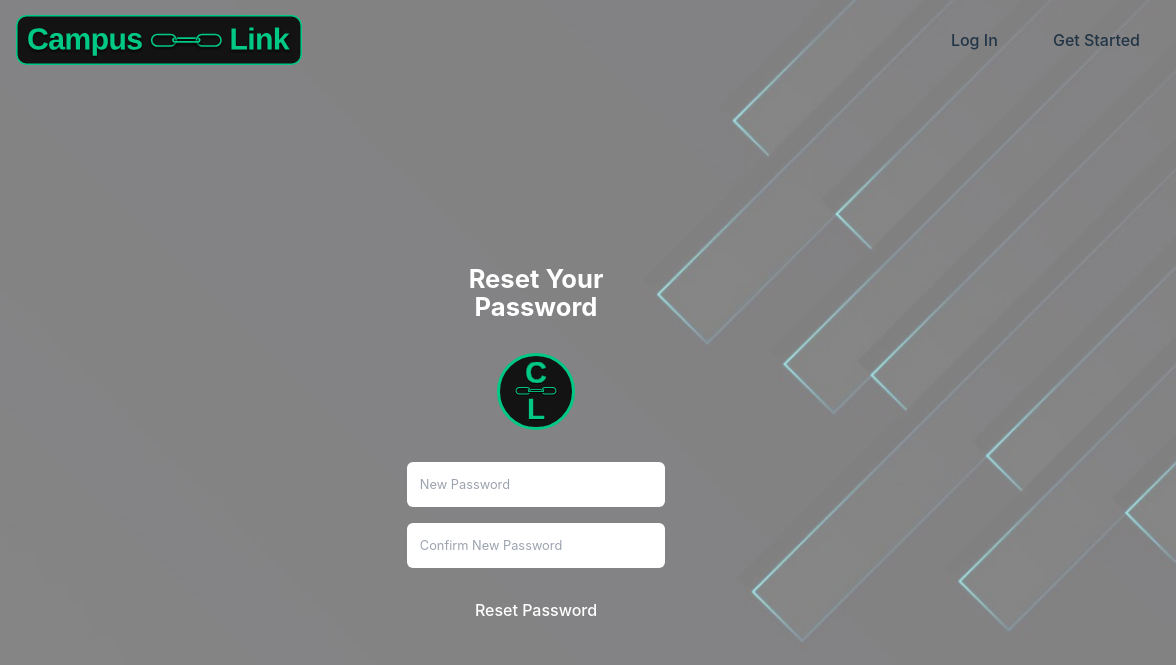
Test: Password Reset Page › shows an error if the password reset fails
Note: Enter matching passwords
Type "Password123!" into the password field with test id "new-password" at x=536, y=485, box [407,462,665,507]
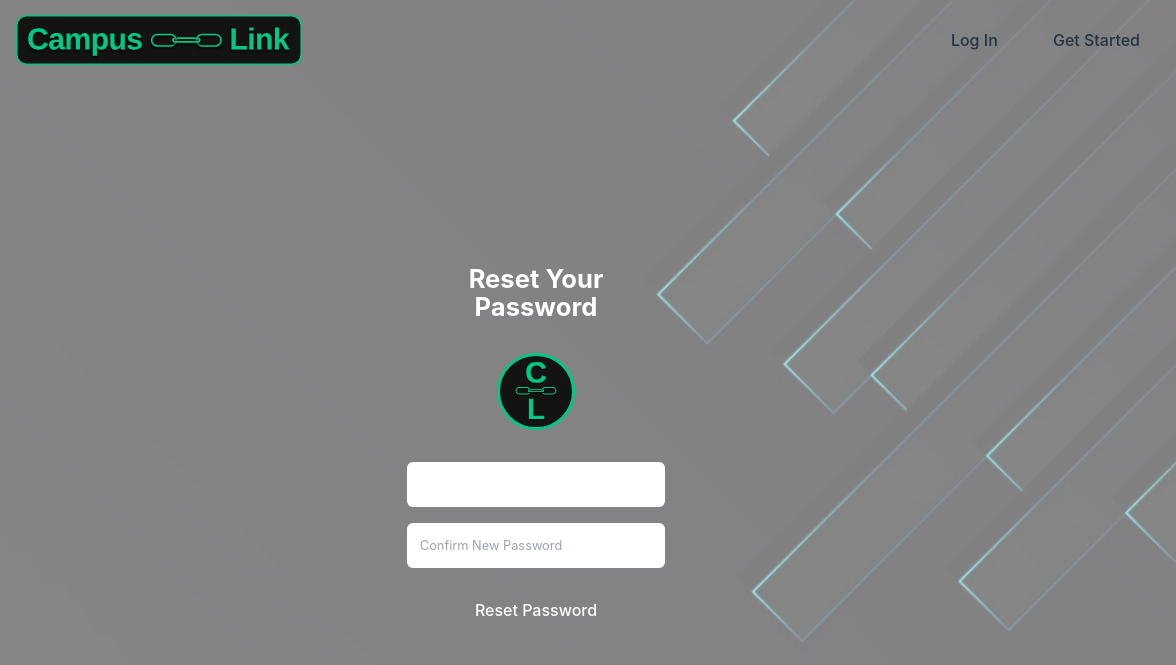
Type "Password123!" into the password field with test id "confirm-password" at x=536, y=545, box [407,523,665,568]
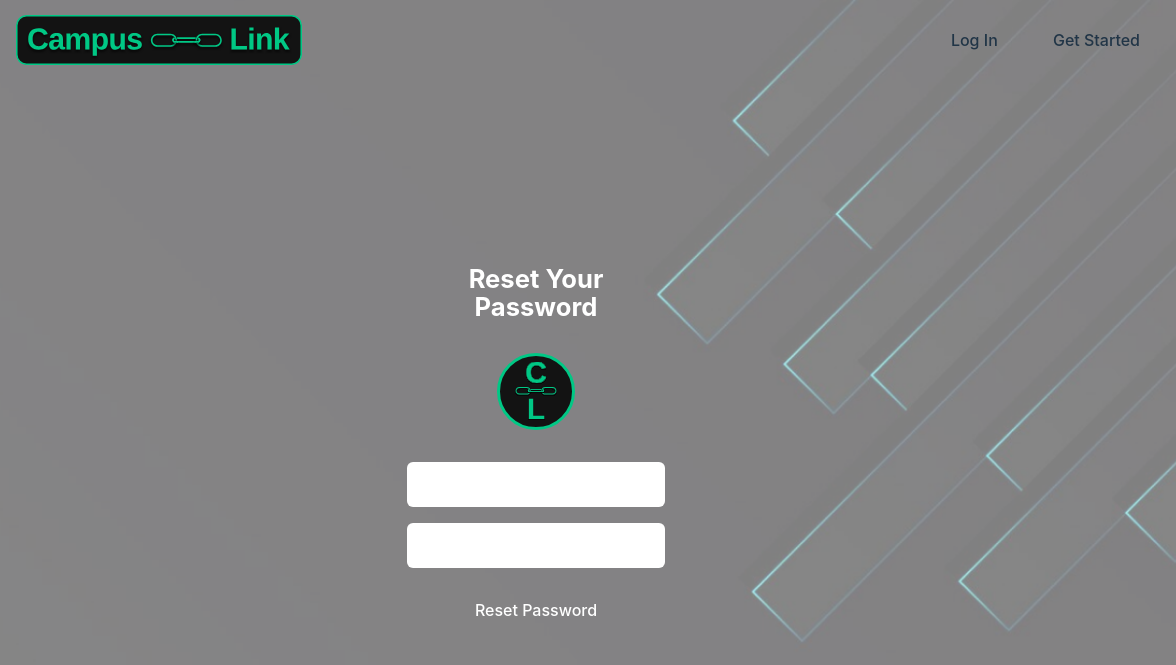
Note: Click submit
Click the button "Reset Password" at x=536, y=610, box [407,584,665,635]
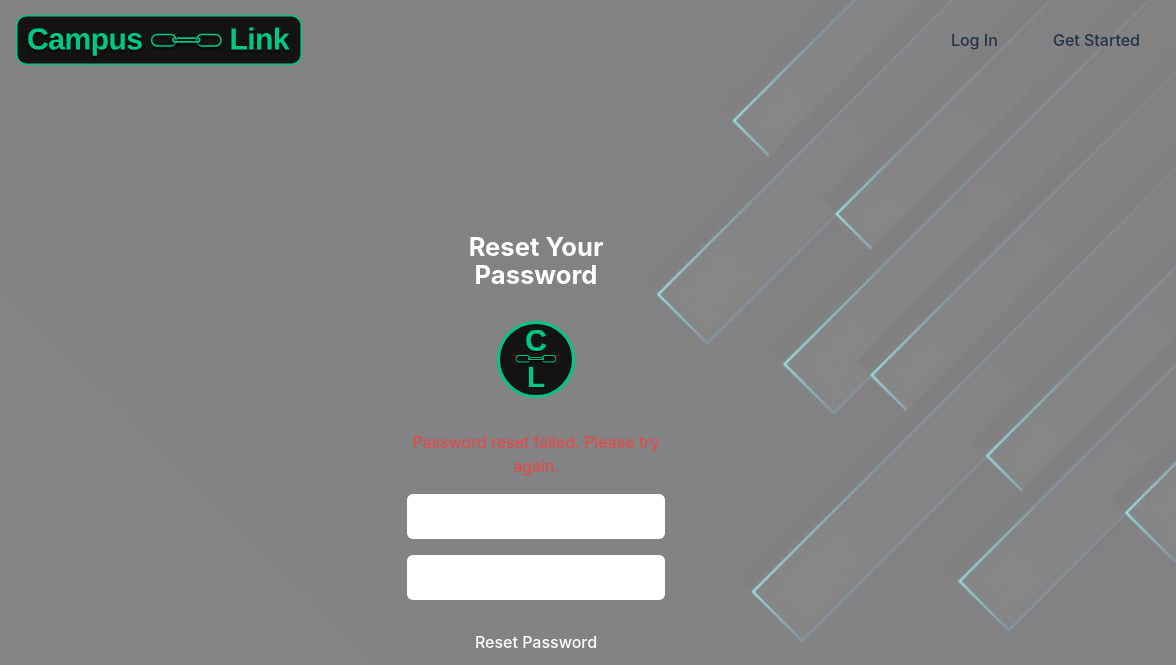
Expected: the text "Password reset failed. Please try again." is shown, [407,430,665,478]
